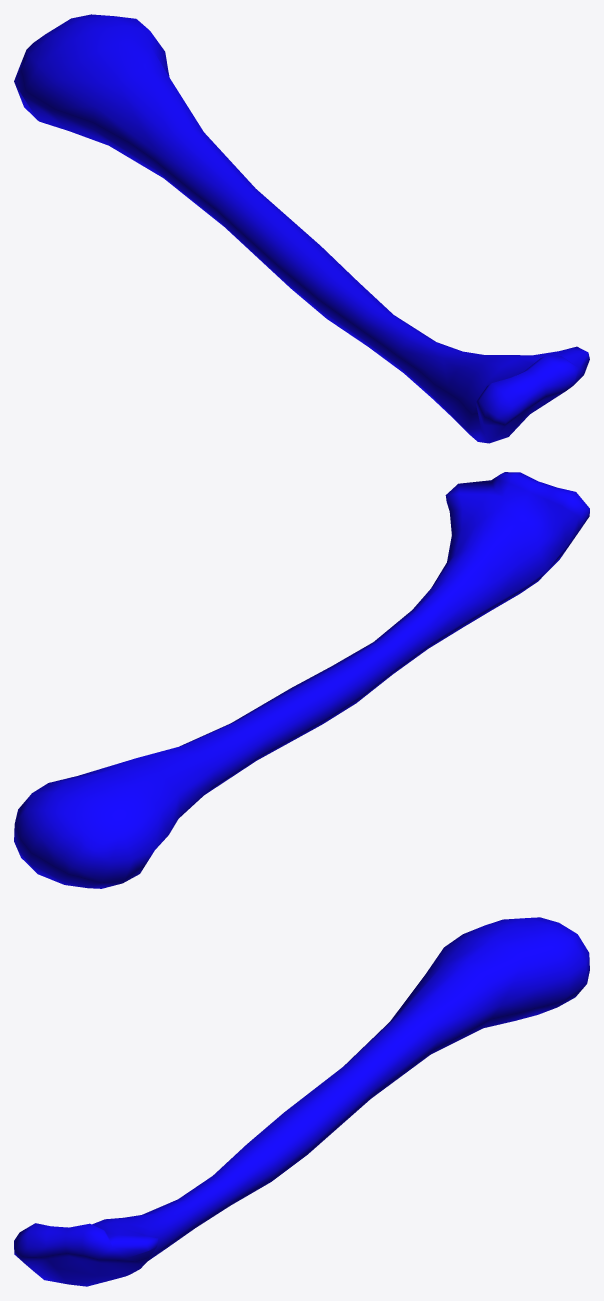
Rendered from SM_R_Humerus.FBX.
3 renders of one model, top to bottom at view 1: azimuth 30°, elevation 25°; view 2: azimuth 150°, elevation 25°; view 3: azimuth 330°, elevation 25°, orthographic. The views are drawn at different scales.
Parts seen in each view (by area): view 1: R_Humerus; view 2: R_Humerus; view 3: R_Humerus.
Boxes of the visible parts, x1,y1,x2,y2 form: R_Humerus: [14, 14, 589, 443]; R_Humerus: [14, 472, 589, 888]; R_Humerus: [14, 917, 589, 1286].
Size of the model in its own units: 5.15 by 3.53 by 31.66.
